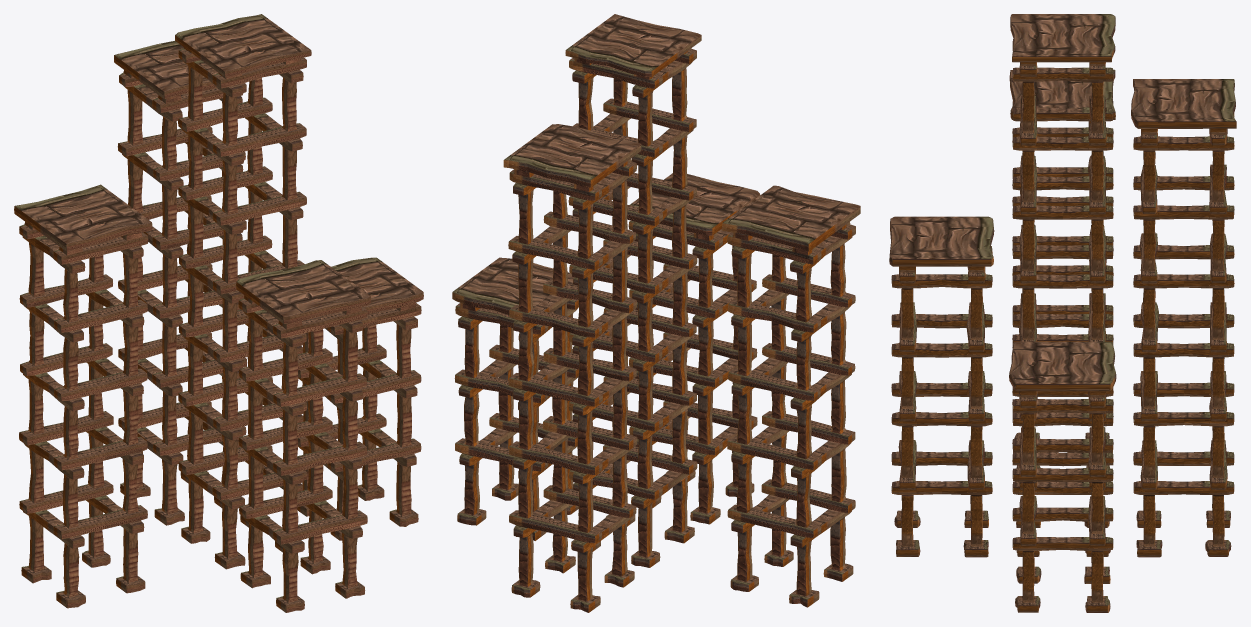
The model's file is M14_Dynamic1Wood_2kg.fbx.
3 views of the same model, side by side, from view 1: azimuth 30°, elevation 25°; view 2: azimuth 150°, elevation 25°; view 3: azimuth 270°, elevation 25° (orthographic).
Visible parts, largest first — view 1: D1Box157, D1Box25, D1Box74, D1Box115, D1Box132, D1Box228, D1Box188, D1Box143, D1Box180, D1Box11, D1Box231, D1Box60 (+121 smaller); view 2: D1Box157, D1Box115, D1Box74, D1Box132, D1Box25, D1Box190, D1Box179, D1Box102, D1Box158, D1Box144, D1Box86, D1Box211 (+121 smaller); view 3: D1Box132, D1Box25, D1Box115, D1Box74, D1Box157, D1Box229, D1Box43, D1Box51, D1Box100, D1Box221, D1Box92, D1Box108 (+68 smaller).
Boxes of the visible parts, x1,y1,x2,y2 form: D1Box157: (14, 184, 152, 251); D1Box25: (236, 260, 370, 324); D1Box74: (175, 14, 311, 77); D1Box115: (114, 41, 216, 99); D1Box132: (331, 257, 423, 314); D1Box228: (273, 373, 366, 406); D1Box188: (273, 441, 367, 475); D1Box143: (53, 505, 147, 539); D1Box180: (53, 436, 147, 470); D1Box11: (273, 510, 367, 544); D1Box231: (54, 299, 147, 332); D1Box60: (213, 123, 306, 156); D1Box157: (722, 185, 860, 251); D1Box115: (503, 124, 641, 187); D1Box74: (565, 14, 701, 77); D1Box132: (452, 257, 574, 314); D1Box25: (630, 173, 760, 235); D1Box190: (508, 373, 602, 406); D1Box179: (727, 435, 821, 469); D1Box102: (508, 236, 602, 269); D1Box158: (509, 441, 602, 475); D1Box144: (727, 504, 821, 537); D1Box86: (509, 510, 602, 543); D1Box211: (728, 368, 820, 400); D1Box132: (1009, 341, 1116, 391); D1Box25: (889, 216, 994, 266); D1Box115: (1131, 79, 1236, 128); D1Box74: (1010, 14, 1115, 62); D1Box157: (1009, 69, 1115, 119); D1Box229: (891, 343, 992, 357); D1Box43: (1012, 274, 1113, 288); D1Box51: (1012, 205, 1113, 219); D1Box100: (1133, 205, 1234, 219); D1Box221: (1012, 399, 1113, 413); D1Box92: (1133, 274, 1234, 288); D1Box108: (1133, 136, 1234, 150).
Size of what is drawn, in the model's own units: 36.29 by 48.26 by 30.16.
